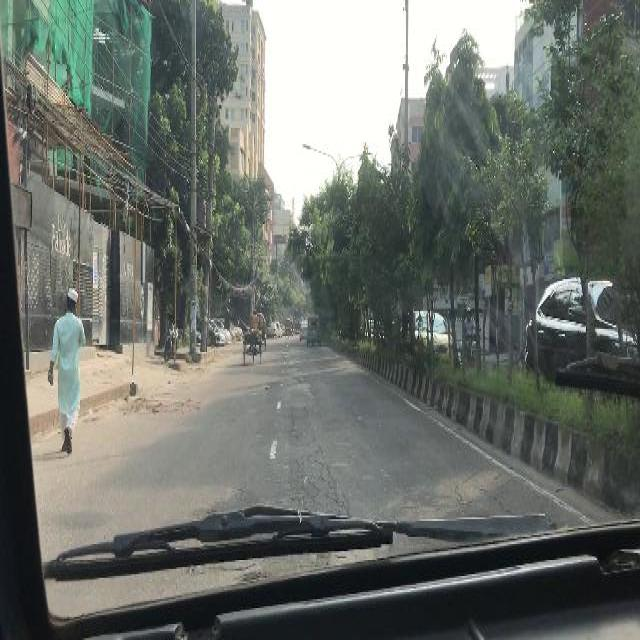car: (400, 308, 456, 368), (197, 316, 221, 345), (221, 316, 241, 338), (216, 321, 230, 340), (298, 321, 308, 340), (266, 323, 276, 335), (275, 321, 281, 333)
motorbike: (162, 317, 180, 358), (460, 329, 480, 364)
rickshaw: (258, 313, 266, 348), (284, 318, 290, 336)
suv: (524, 276, 640, 400)
three wheelers -CNG-: (306, 313, 320, 345)
